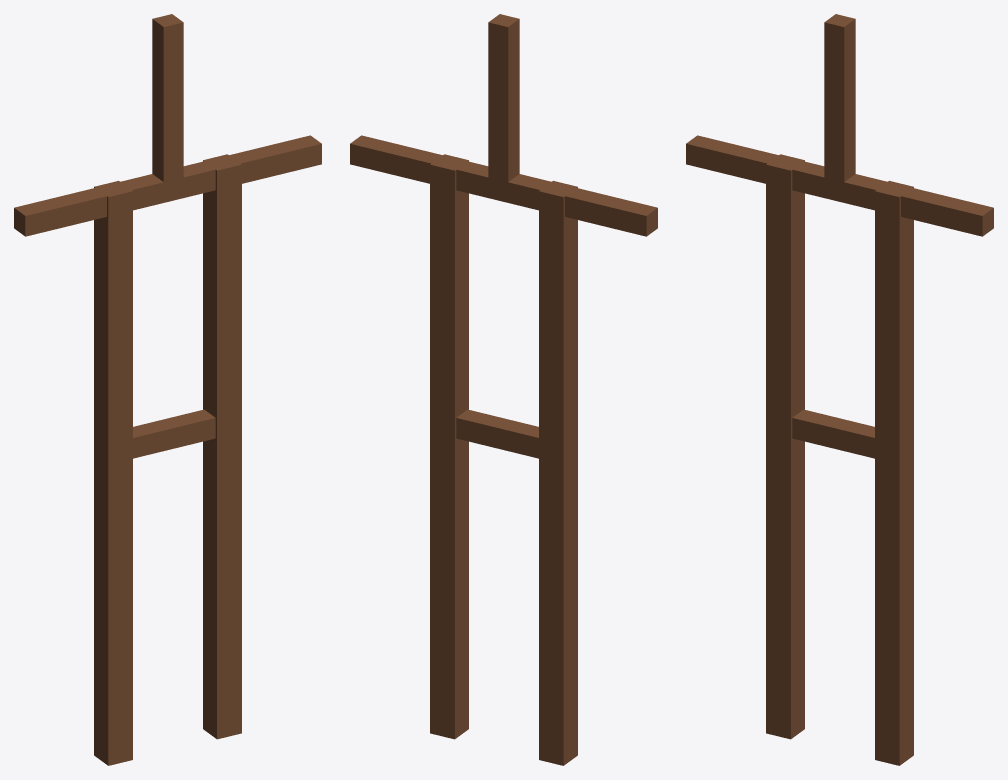
Rendered from armor_stand.gltf.
3 views of the same model, side by side, from view 1: azimuth 30°, elevation 25°; view 2: azimuth 150°, elevation 25°; view 3: azimuth 330°, elevation 25° (orthographic).
Visible parts, largest first — view 1: Cube; view 2: Cube; view 3: Cube.
Boxes of the visible parts, x1=… form: Cube: x1=14, y1=14, x2=321, y2=765; Cube: x1=350, y1=14, x2=657, y2=765; Cube: x1=686, y1=14, x2=993, y2=765.
Bounding box in the file's own units: 0.6 × 1.4 × 0.05.
